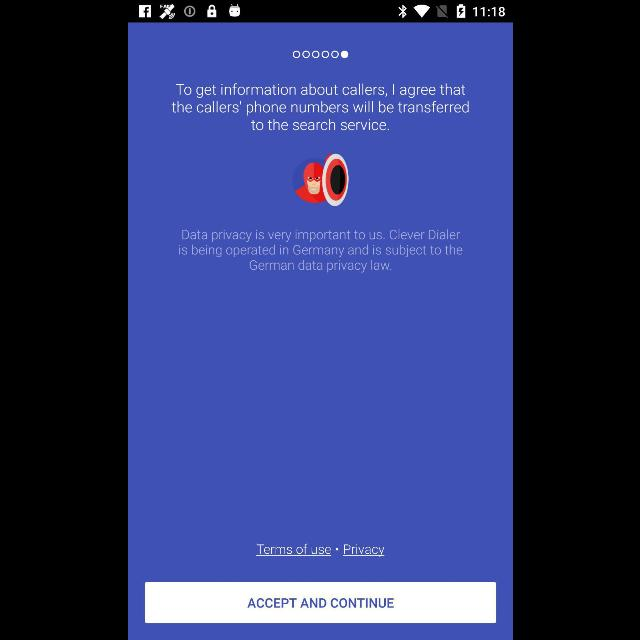image: (292, 154, 348, 206)
pageindicator: (292, 51, 348, 59)
text: (172, 84, 468, 130), (178, 229, 462, 273), (256, 544, 330, 556), (342, 544, 384, 556)
textbutton: (144, 582, 496, 624)
uppertaskbar: (128, 1, 512, 23)
